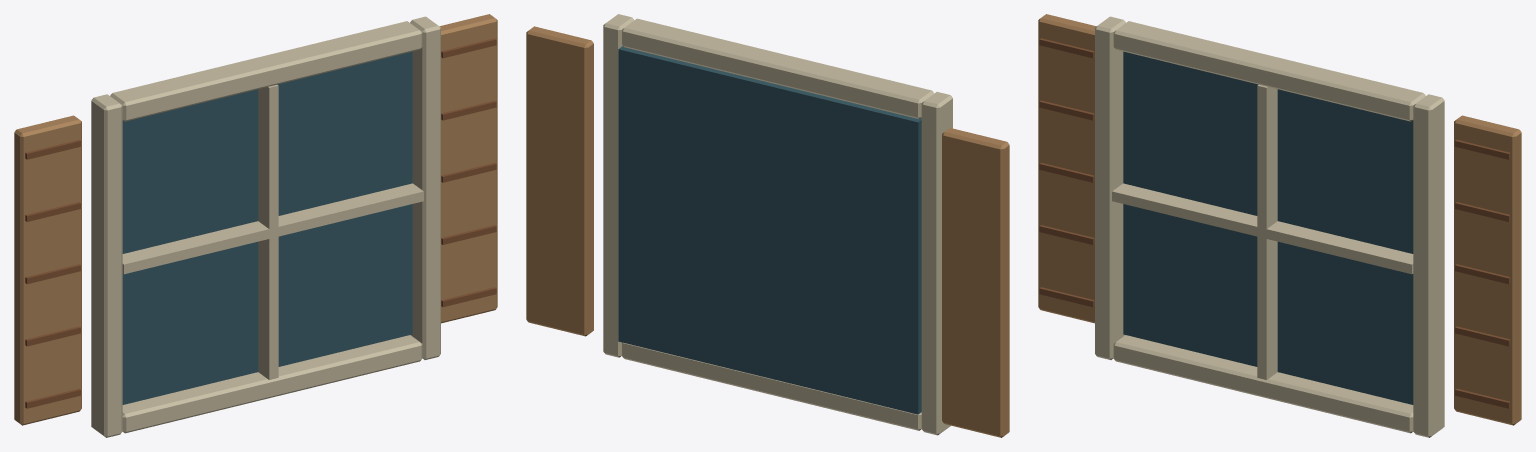
The model's file is window_01.glb.
3 renders of one model, left to right at view 1: azimuth 30°, elevation 25°; view 2: azimuth 150°, elevation 25°; view 3: azimuth 330°, elevation 25°, orthographic.
Visible parts, largest first — view 1: window_01; view 2: window_01; view 3: window_01.
Boxes of the visible parts, x1,y1,x2,y2 form: window_01: [14, 14, 497, 437]; window_01: [526, 14, 1009, 437]; window_01: [1038, 14, 1521, 437].
Size of the model in its own units: 2.31 by 1.53 by 0.185.
